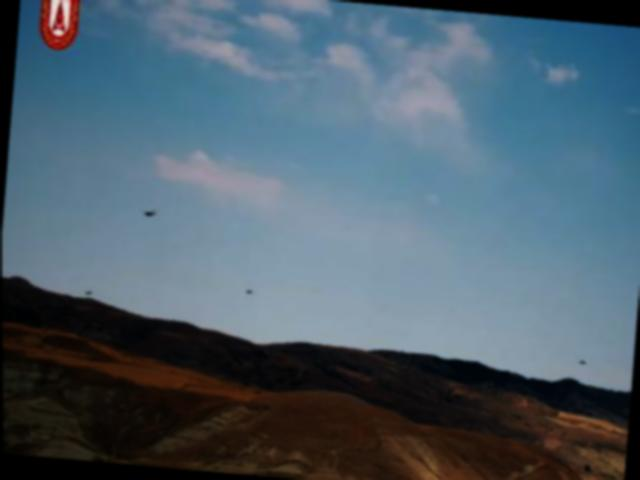uav: (138, 207, 160, 218), (243, 286, 253, 298), (82, 287, 94, 296)
